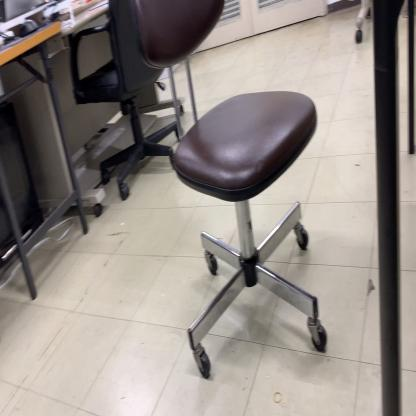chair: (132, 0, 329, 379), (67, 0, 180, 201)
